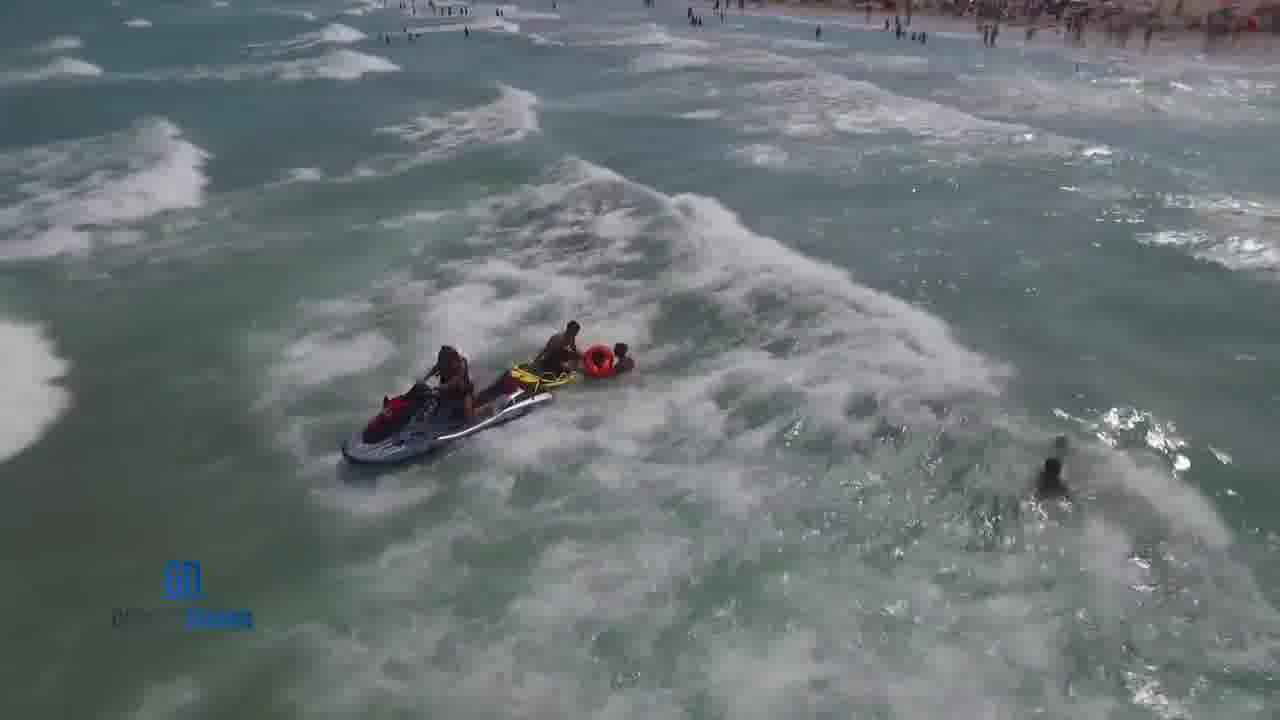swimmer: (1021, 447, 1092, 507), (606, 333, 671, 389), (573, 338, 622, 388)
